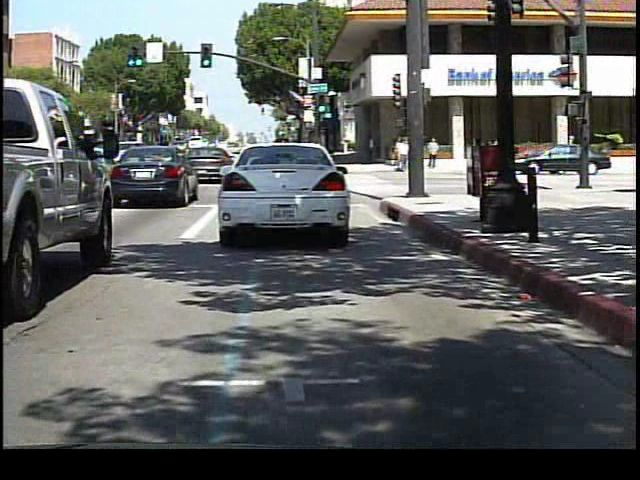person: (488, 135, 509, 173), (395, 136, 410, 177), (425, 135, 442, 170)
